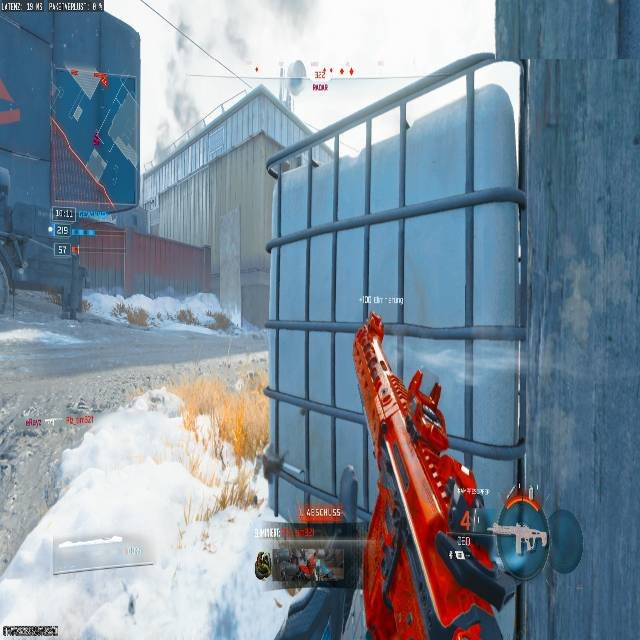head: (368, 311, 377, 321)
player: (364, 311, 385, 364)
